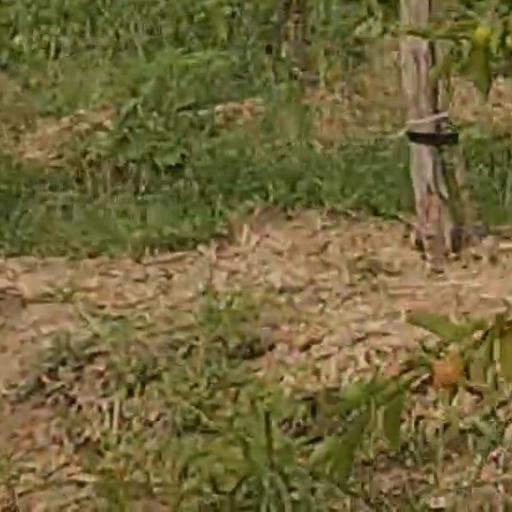acerola: (434, 359, 464, 384)
